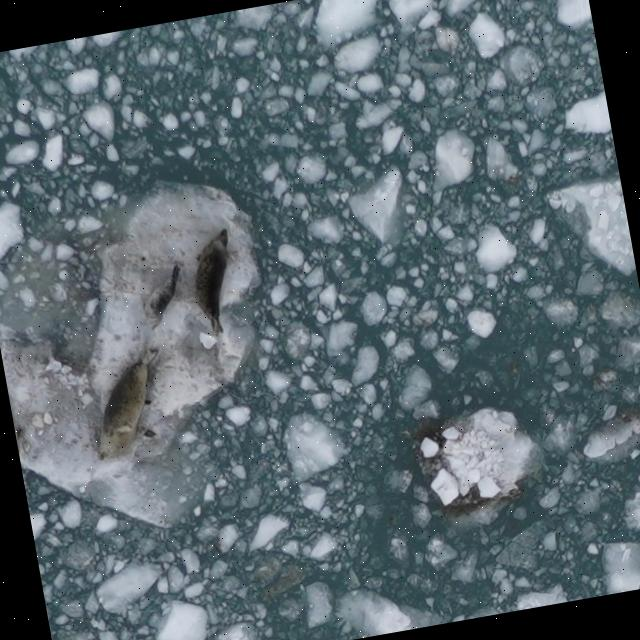seal: (75, 340, 180, 464), (183, 223, 248, 341), (133, 259, 196, 335)
